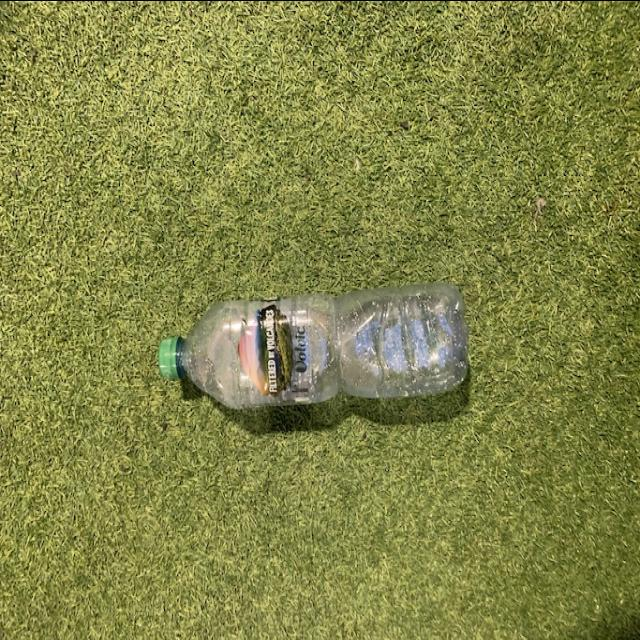PET: (160, 279, 472, 410)
